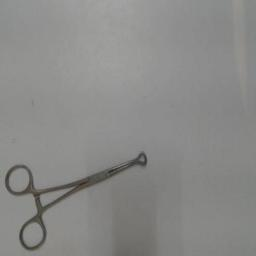Babcock Tissue Forceps: (2, 147, 148, 253)
